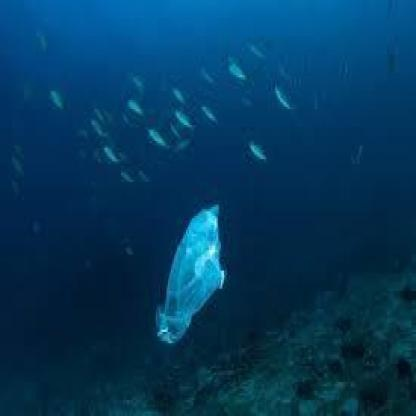pbag: (153, 204, 225, 346)
